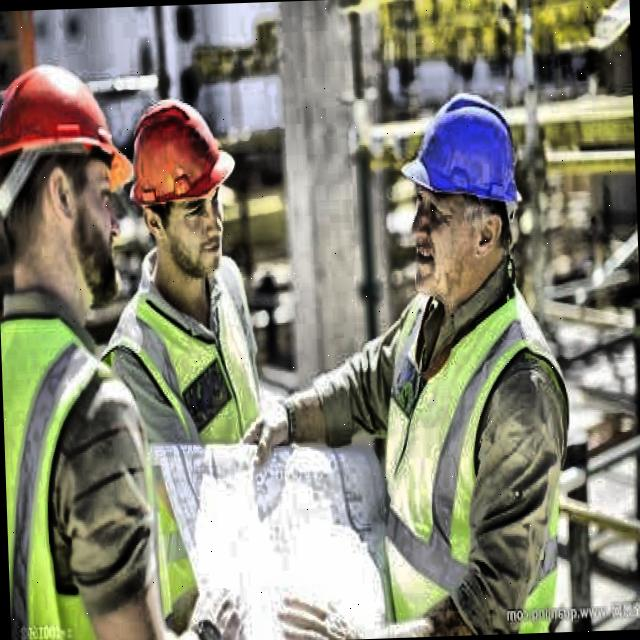helmet: (0, 32, 134, 315), (388, 68, 537, 316), (120, 79, 246, 295)
